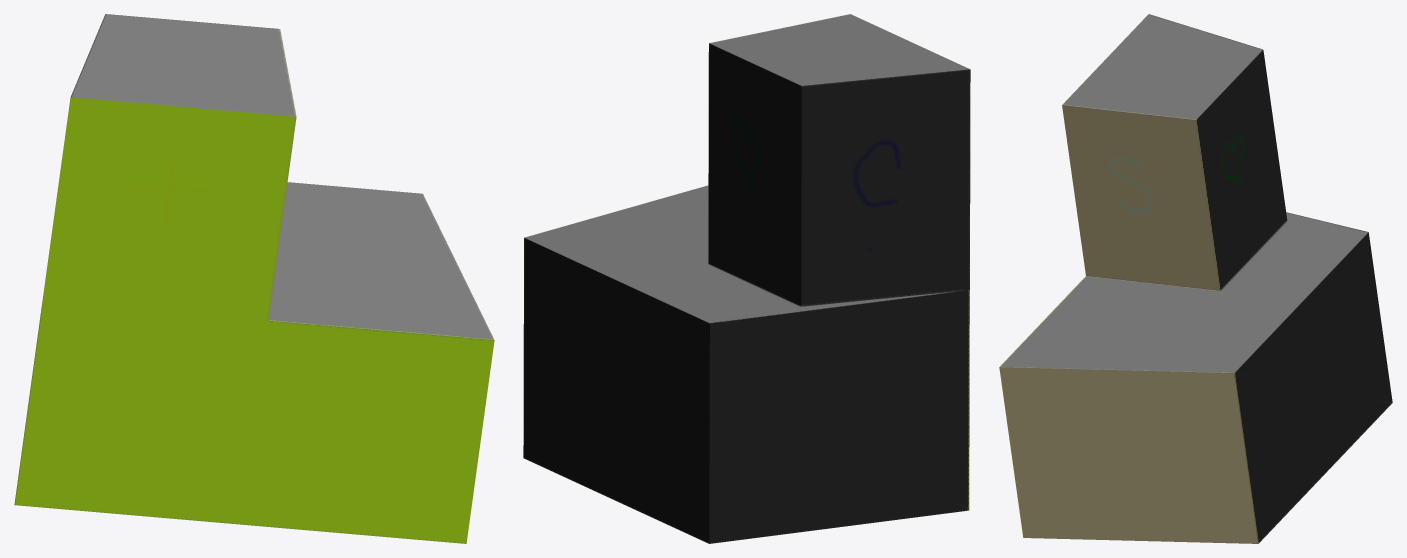
File: asset.glb
3 views of the same model, side by side, from view 1: azimuth 30°, elevation 25°; view 2: azimuth 150°, elevation 25°; view 3: azimuth 270°, elevation 25° (orthographic). The views are drawn at different scales.
Parts seen in each view (by area): view 1: node_id3; view 2: node_id3; view 3: node_id3.
Part boxes in pixels (x1,y1,x2,y2): node_id3: [14, 14, 494, 543]; node_id3: [523, 14, 970, 543]; node_id3: [999, 14, 1392, 543].
Bounding box in the file's own units: 0.5422 × 0.5742 × 0.5123.
Materials: 1 (1 with a texture image).
